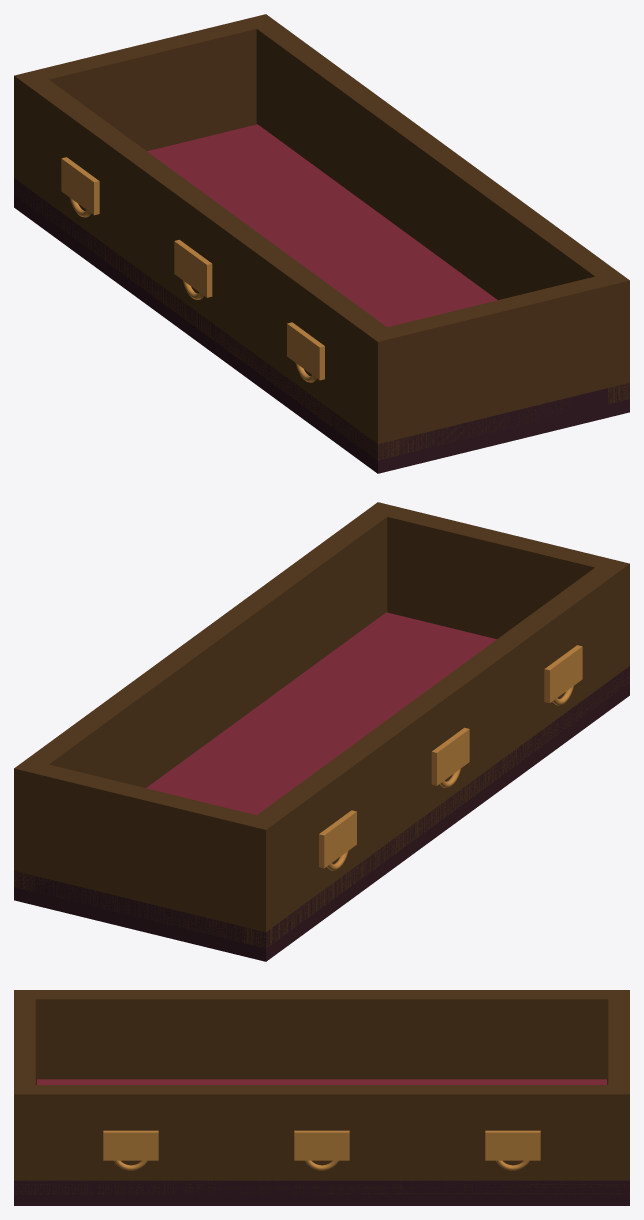
Rendered from mia-coffin.glb.
3 views of the same model, one above another, from view 1: azimuth 30°, elevation 25°; view 2: azimuth 150°, elevation 25°; view 3: azimuth 270°, elevation 25° (orthographic). The views are drawn at different scales.
Parts seen in each view (by area): view 1: Body_wood, Body_velvet, Body_dark, Body_brass; view 2: Body_wood, Body_velvet, Body_dark, Body_brass; view 3: Body_wood, Body_dark, Body_brass, Body_velvet.
Boxes of the visible parts, x1,y1,x2,y2 form: Body_wood: (14, 14, 629, 460); Body_velvet: (147, 124, 497, 327); Body_dark: (14, 178, 629, 473); Body_brass: (61, 157, 324, 382); Body_wood: (14, 502, 629, 948); Body_velvet: (146, 612, 496, 815); Body_dark: (14, 666, 629, 961); Body_brass: (319, 645, 582, 870); Body_wood: (14, 990, 629, 1194); Body_dark: (14, 1180, 629, 1205); Body_brass: (103, 1130, 540, 1170); Body_velvet: (37, 1079, 606, 1084).
Size of the model in its own units: 0.834 by 0.4 by 2.
